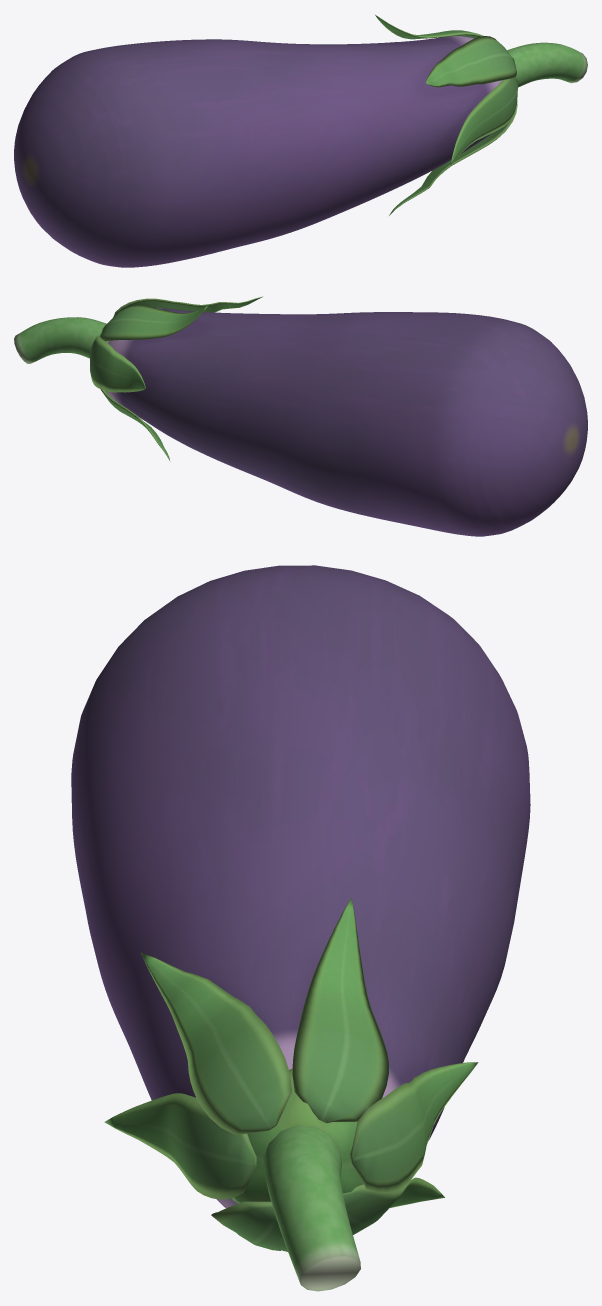
The model's file is eggplant.glb.
The picture shows the model from 3 angles, top to bottom: view 1: azimuth 30°, elevation 25°; view 2: azimuth 150°, elevation 25°; view 3: azimuth 270°, elevation 25°; orthographic projection. The views are drawn at different scales.
Parts seen in each view (by area): view 1: eggplant_body; view 2: eggplant_body; view 3: eggplant_body.
Part boxes in pixels (bbox=[...]): eggplant_body: bbox=[14, 15, 587, 267]; eggplant_body: bbox=[14, 296, 587, 536]; eggplant_body: bbox=[71, 565, 530, 1291].
Bounding box in the file's own units: 0.2134 × 0.0763 × 0.077.
1 material, 1 textured.
